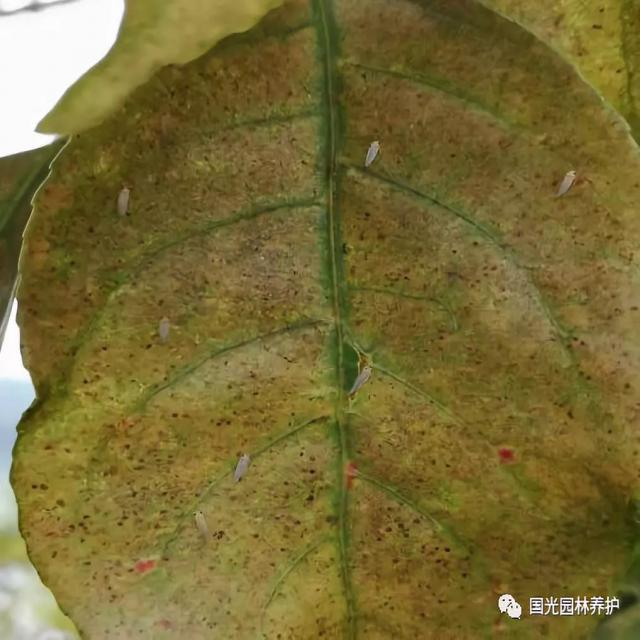Yechan: (110, 181, 138, 223), (347, 361, 374, 398), (364, 134, 384, 172), (232, 449, 253, 485), (557, 164, 577, 200)
